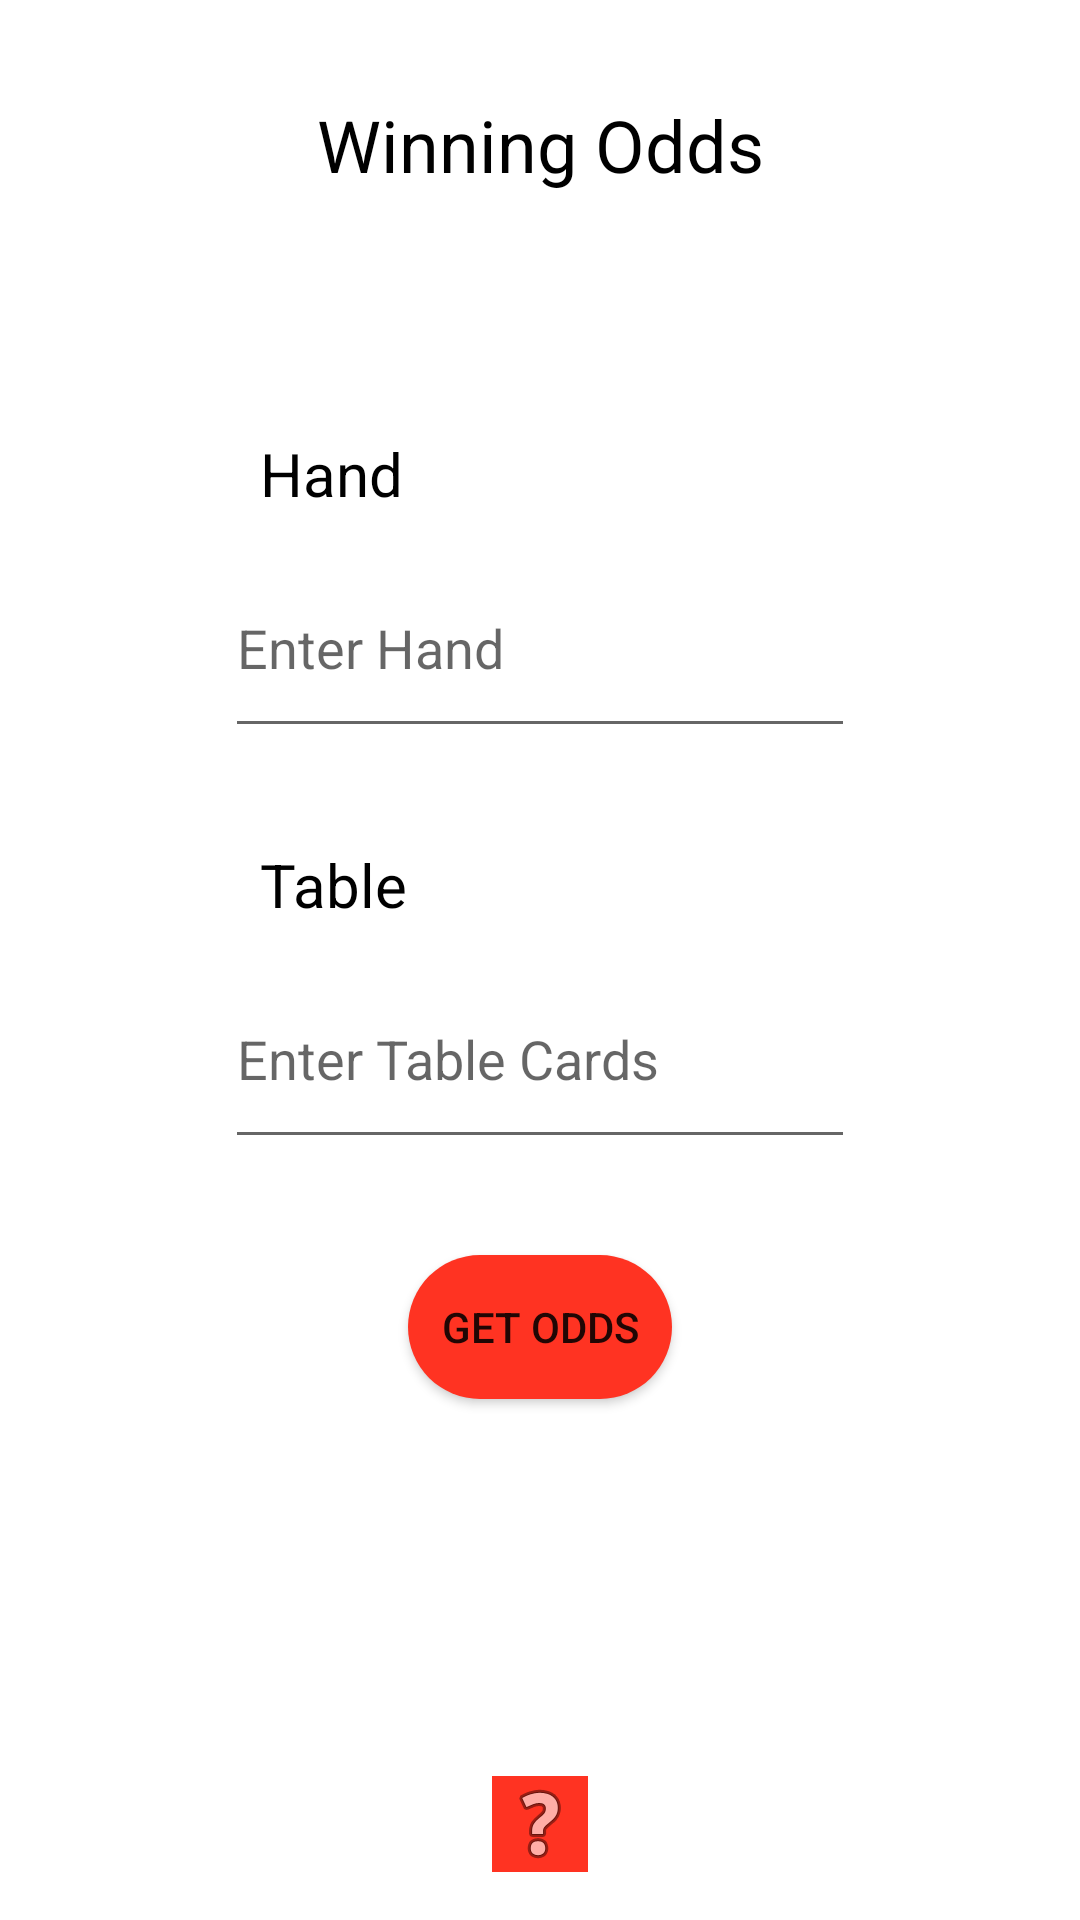

Icon click points for this 1080 × 1920 phone screenshot, format [x,y]:
Press For Help: [540,1824]
